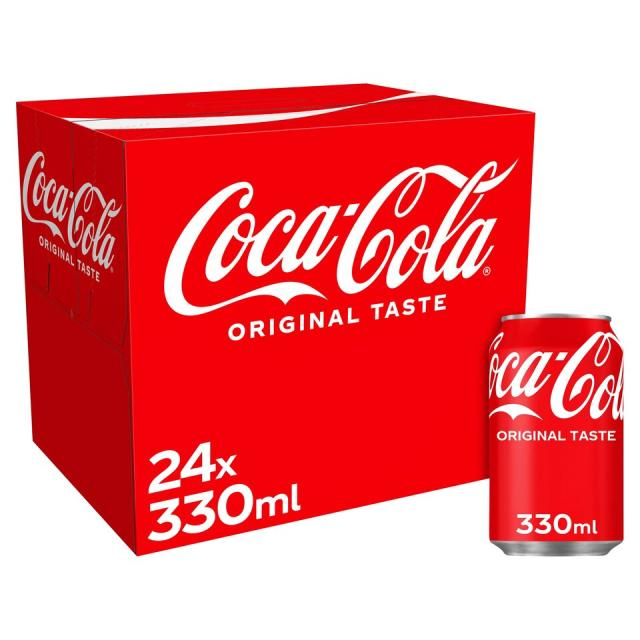cocacola: (480, 304, 638, 565)
